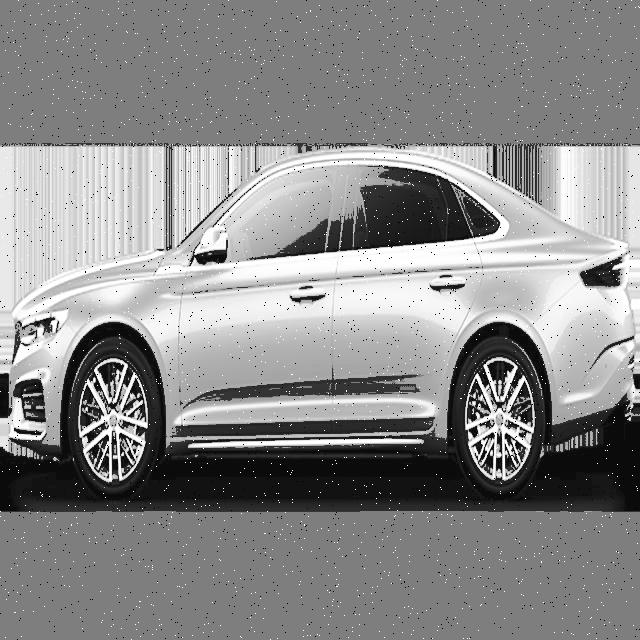Car: (0, 133, 640, 513)
